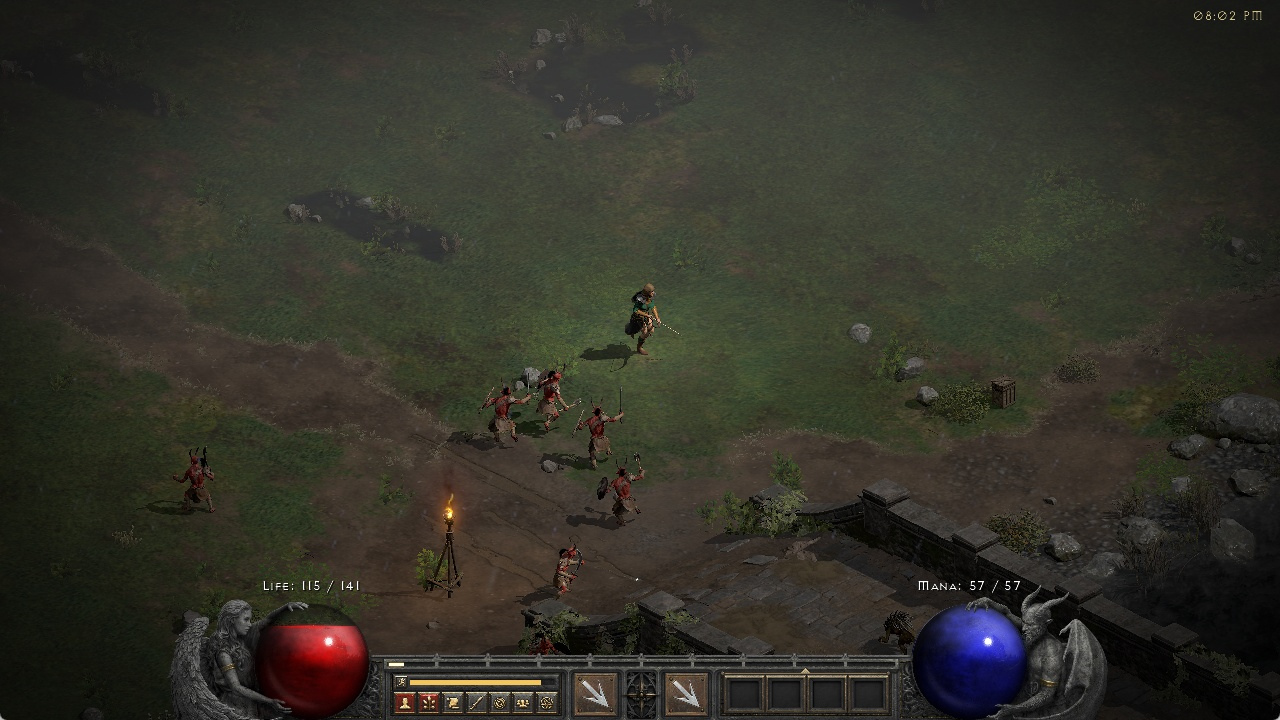fallen: (581, 386, 627, 459), (531, 362, 578, 433), (592, 461, 645, 521), (483, 372, 525, 447), (178, 441, 213, 518), (550, 538, 589, 595), (523, 629, 561, 656)
